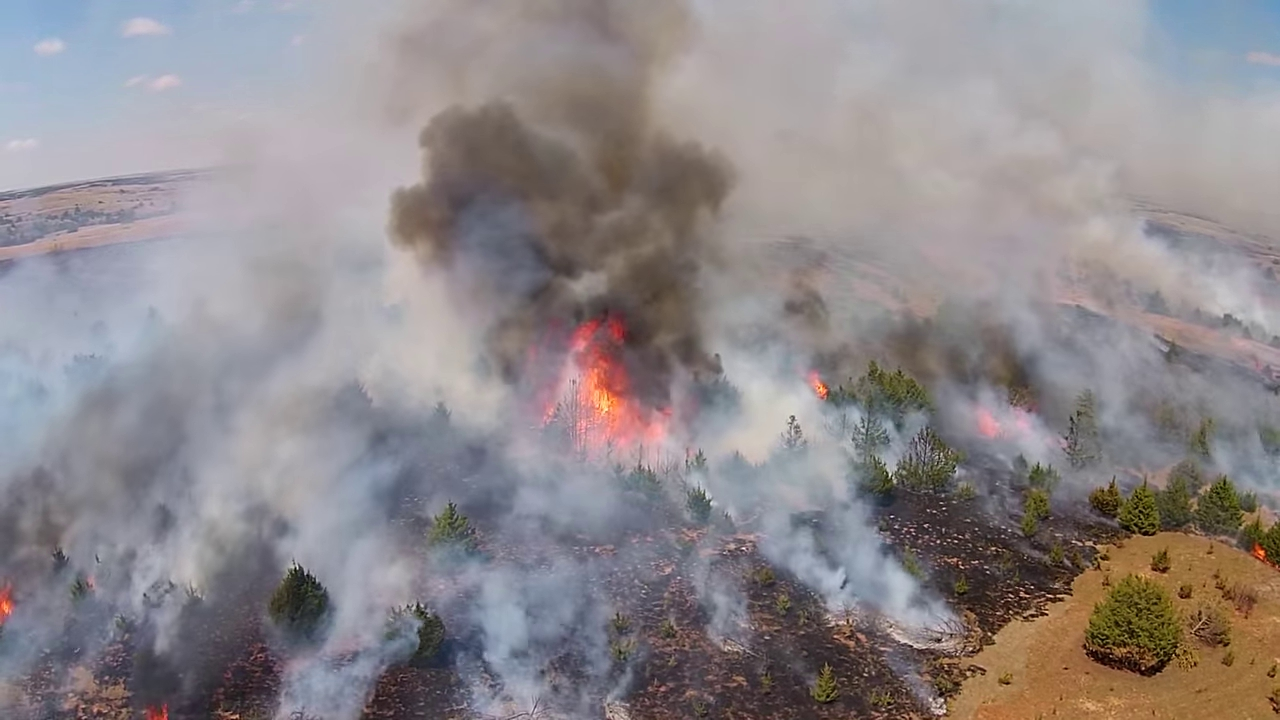forest_fire: (543, 312, 671, 454), (975, 406, 1031, 438), (808, 372, 829, 399), (0, 585, 14, 625), (1250, 544, 1273, 564), (143, 704, 167, 718)
